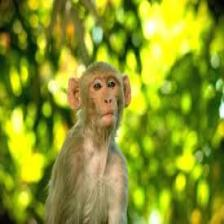monkey: (43, 56, 133, 223)
